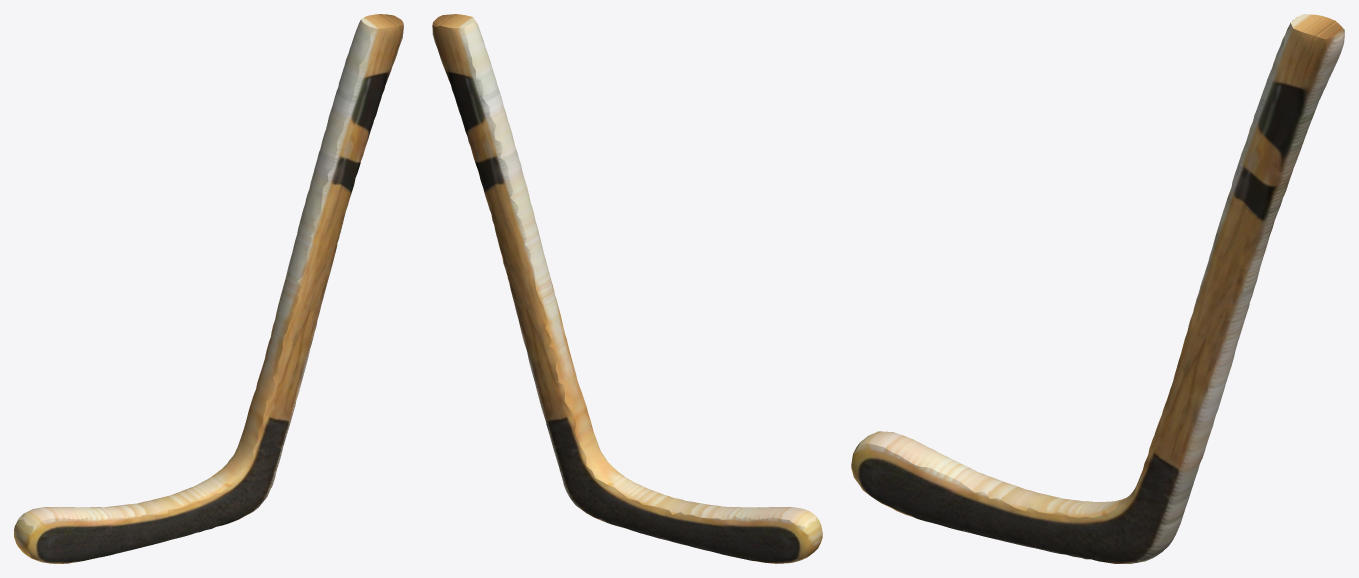
File: hockey-stick.glb
The picture shows the model from 3 angles, left to right: view 1: azimuth 30°, elevation 25°; view 2: azimuth 150°, elevation 25°; view 3: azimuth 330°, elevation 25°; orthographic projection. The views are drawn at different scales.
Visible parts, largest first — view 1: hockey-stick; view 2: hockey-stick; view 3: hockey-stick.
Part boxes in pixels (x1,y1,x2,y2): hockey-stick: (14, 14, 403, 563); hockey-stick: (432, 14, 822, 563); hockey-stick: (851, 14, 1344, 563).
Size of the model in its own units: 1.29 by 1.5 by 0.1058.
Materials: 1 (1 with a texture image).
